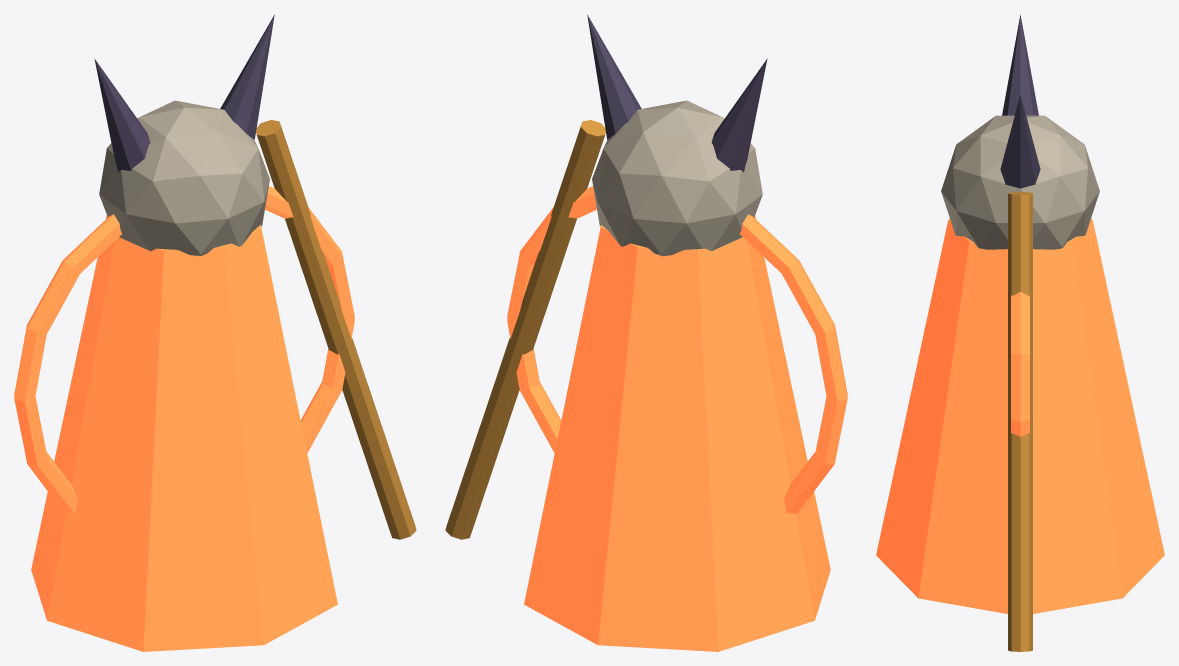
Rendered from cinder-warden.glb.
3 views of the same model, side by side, from view 1: azimuth 30°, elevation 25°; view 2: azimuth 150°, elevation 25°; view 3: azimuth 270°, elevation 25° (orthographic). The views are drawn at different scales.
Parts seen in each view (by area): view 1: warden-robe, warden-skull, warden-fire-ring, warden-staff, warden-horn-0, warden-horn-1; view 2: warden-robe, warden-skull, warden-fire-ring, warden-staff, warden-horn-0, warden-horn-1; view 3: warden-robe, warden-skull, warden-staff, warden-fire-ring, warden-horn-1, warden-horn-0.
Part boxes in pixels (x1,y1,x2,y2): warden-robe: (31, 215, 337, 651); warden-skull: (99, 100, 269, 256); warden-fire-ring: (14, 186, 354, 513); warden-staff: (256, 120, 416, 539); warden-horn-0: (94, 58, 150, 172); warden-horn-1: (220, 15, 274, 139); warden-robe: (524, 215, 830, 651); warden-skull: (592, 100, 762, 256); warden-fire-ring: (507, 186, 847, 513); warden-staff: (445, 120, 605, 539); warden-horn-0: (711, 58, 767, 172); warden-horn-1: (587, 15, 641, 139); warden-robe: (876, 218, 1164, 613); warden-skull: (941, 115, 1099, 249); warden-staff: (1008, 192, 1032, 651); warden-fire-ring: (1011, 292, 1029, 436); warden-horn-1: (1000, 94, 1040, 188); warden-horn-0: (1002, 14, 1038, 115).
Bounding box in the file's own units: 2.33 × 3.07 × 1.6.
